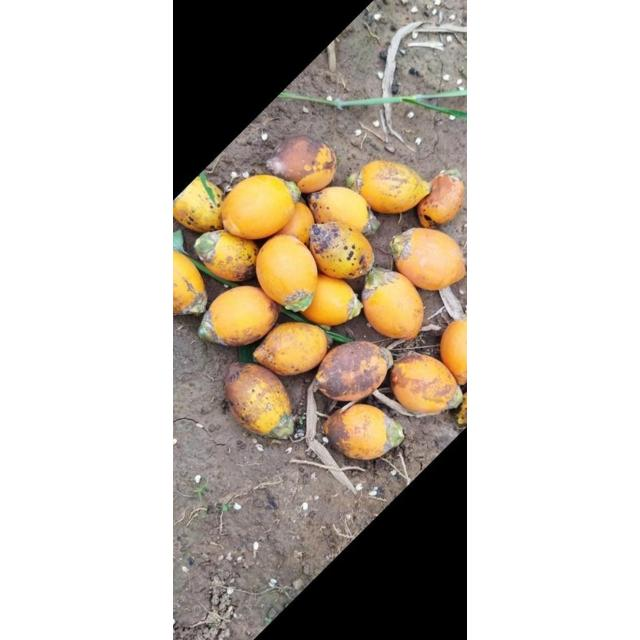good: (222, 362, 296, 438), (198, 286, 278, 346), (254, 236, 318, 310), (390, 228, 466, 290), (313, 342, 391, 402), (322, 404, 404, 460), (361, 268, 423, 338), (390, 354, 462, 414), (253, 322, 330, 376), (356, 160, 432, 214), (266, 134, 336, 192), (309, 222, 375, 280), (194, 230, 260, 284), (307, 188, 373, 235), (298, 276, 360, 326), (173, 175, 225, 233), (416, 170, 466, 228), (173, 248, 207, 316), (274, 202, 314, 246), (440, 318, 466, 384), (197, 309, 225, 345), (194, 231, 218, 261), (284, 180, 302, 204), (378, 345, 394, 371), (440, 168, 462, 182), (254, 237, 268, 249)
